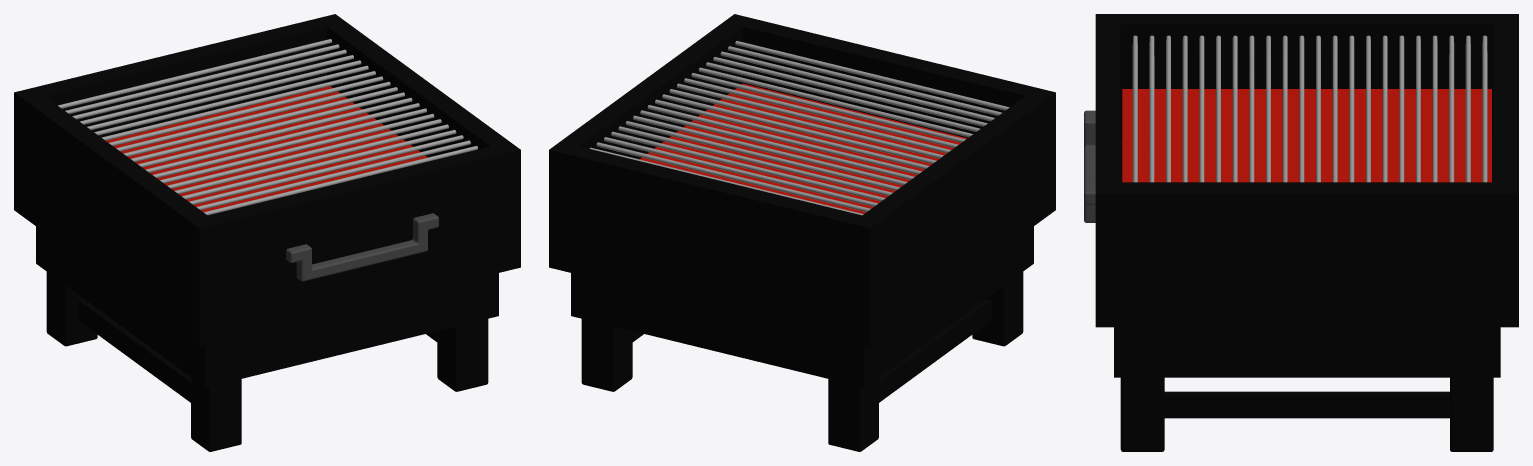
The model's file is grill.fbx.
3 views of the same model, side by side, from view 1: azimuth 30°, elevation 25°; view 2: azimuth 150°, elevation 25°; view 3: azimuth 270°, elevation 25° (orthographic). The views are drawn at different scales.
Parts seen in each view (by area): view 1: grill, grill_2, grill_bot, leg, grill_leg, grill_handle; view 2: grill, grill_2, grill_bot, leg, grill_leg; view 3: grill, grill_bot, grill_2, grill_leg, leg, grill_handle.
Boxes of the visible parts, x1,y1,x2,y2 form: grill: (14,14,520,387); grill_2: (58,39,477,215); grill_bot: (106,86,427,212); leg: (46,272,488,451); grill_leg: (78,299,437,402); grill_handle: (286,213,438,281); grill: (549,14,1055,387); grill_2: (589,41,1009,215); grill_bot: (639,83,967,213); leg: (581,272,1023,451); grill_leg: (632,299,991,402); grill: (1095,14,1518,377); grill_bot: (1122,89,1491,182); grill_2: (1132,35,1487,182); grill_leg: (1164,391,1449,418); leg: (1120,377,1493,451); grill_handle: (1084,110,1095,222).
Bounding box in the file's own units: 97.39 × 68.95 × 100.
